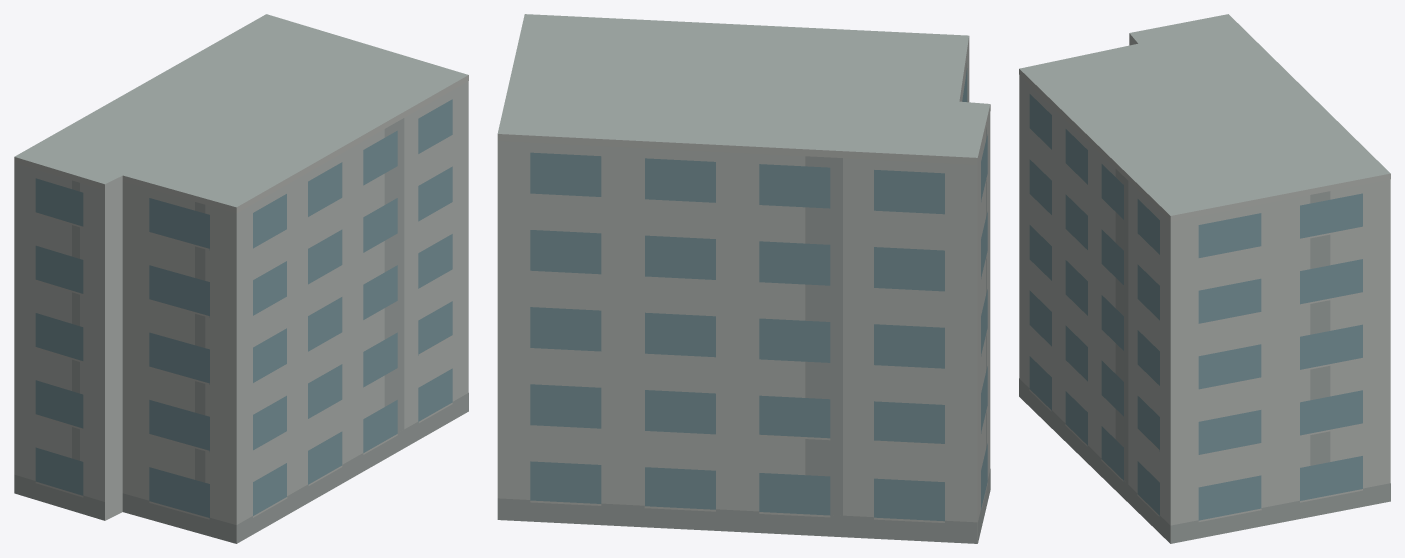
Rendered from survey-upis-32857931.glb.
3 views of the same model, side by side, from view 1: azimuth 30°, elevation 25°; view 2: azimuth 150°, elevation 25°; view 3: azimuth 270°, elevation 25° (orthographic). The views are drawn at different scales.
Visible parts, largest first — view 1: survey-upis-32857931.tmp; view 2: survey-upis-32857931.tmp; view 3: survey-upis-32857931.tmp.
Part boxes in pixels (x1,y1,x2,y2): survey-upis-32857931.tmp: [14, 14, 468, 543]; survey-upis-32857931.tmp: [497, 14, 990, 543]; survey-upis-32857931.tmp: [1019, 14, 1390, 543].
Size of the model in its own units: 17.84 by 13.5 by 13.87.
